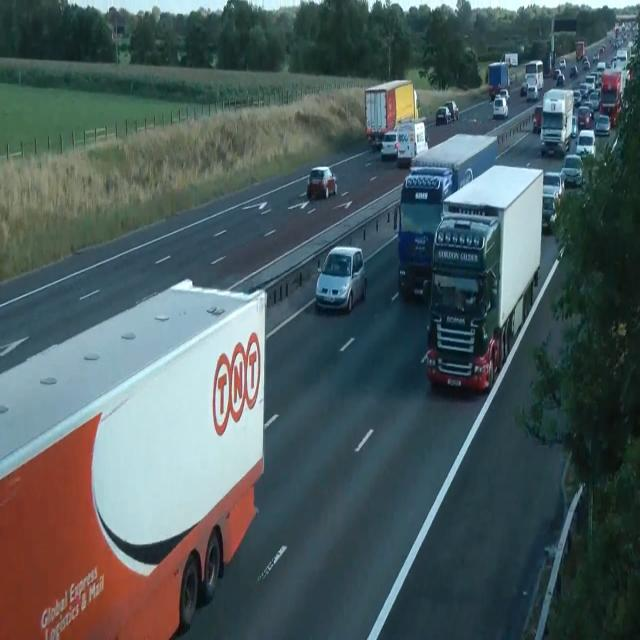bus: (315, 245, 367, 313), (307, 165, 337, 199), (541, 186, 557, 234), (542, 170, 564, 202), (576, 104, 594, 129), (381, 132, 398, 158), (594, 114, 610, 136), (436, 106, 452, 125), (445, 100, 459, 121), (532, 106, 542, 132), (526, 84, 538, 100), (571, 114, 578, 137), (498, 89, 509, 103), (520, 80, 528, 96), (556, 72, 564, 86), (570, 65, 578, 77), (559, 57, 566, 68), (593, 52, 599, 62)
car: (0, 276, 266, 638), (424, 162, 544, 394), (393, 132, 498, 300), (542, 170, 564, 232)
jeep: (537, 42, 631, 233), (560, 153, 584, 187), (575, 128, 595, 159), (492, 95, 508, 119)
minibus: (364, 78, 420, 150), (540, 88, 574, 156), (396, 119, 428, 167), (599, 68, 622, 125), (488, 62, 510, 100), (525, 60, 543, 90), (575, 40, 585, 60), (504, 52, 518, 66)
